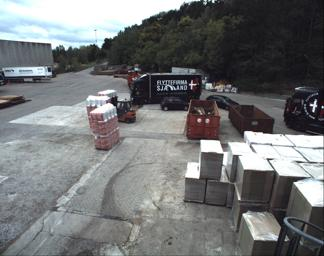rockwool_batts: (91, 105, 119, 147), (86, 94, 107, 113), (98, 83, 113, 95)
